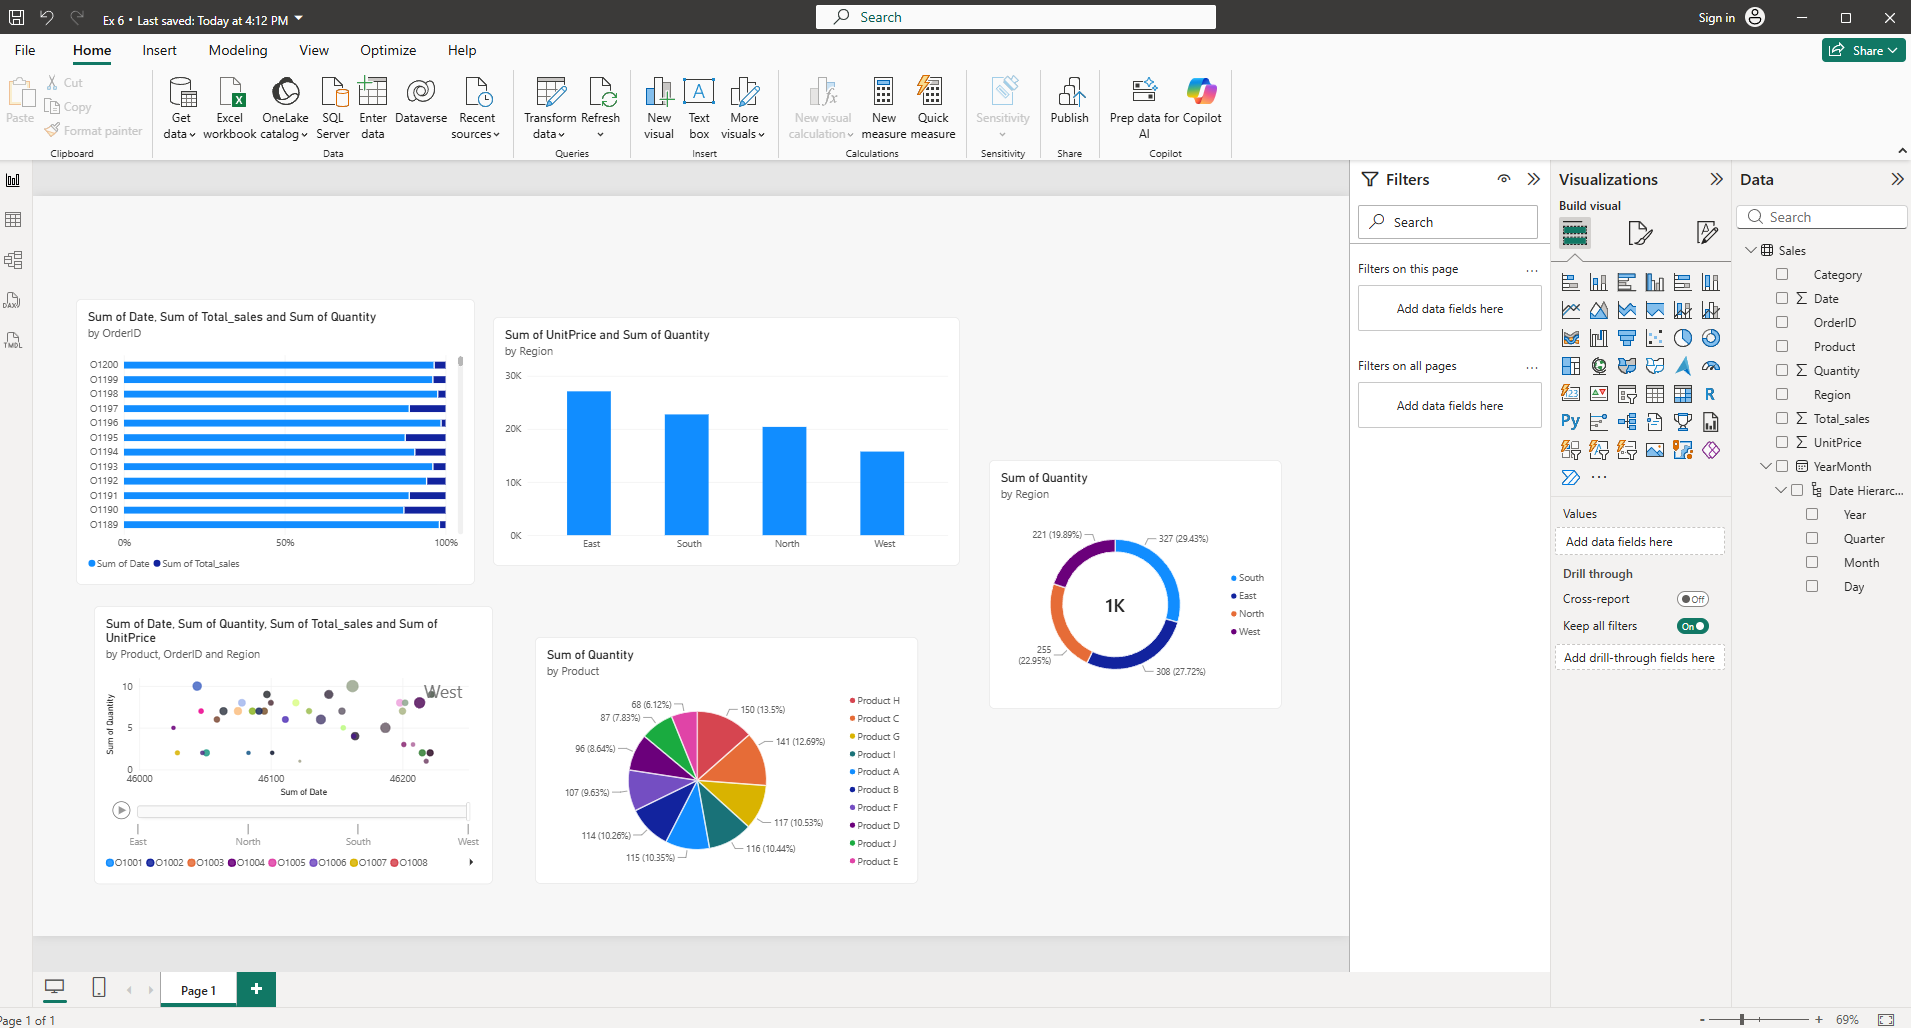

What the dashboard file says about the page in this screenshot:
{"tool":"powerbi","page":{"name":"Page 1","canvas":[1920,1080],"ordinal":0},"visuals":[{"type":"columnChart","fields":{"Category":["Sales.Region"],"Y":["Sum(Sales.UnitPrice)"]},"box":[671.1,176.5,681.3,363.3],"z":0},{"type":"pieChart","fields":{"Category":["Sales.Product"],"Y":["Sum(Sales.Quantity)"]},"box":[732.4,643.4,558.8,360.4],"z":1},{"type":"donutChart","fields":{"Category":["Sales.Region"],"Y":["Sum(Sales.Quantity)"]},"box":[1394.8,385.2,427.5,363.3],"z":2},{"type":"hundredPercentStackedBarChart","fields":{"Category":["Sales.OrderID"],"Y":["Sum(Sales.Date)","Sum(Sales.Total_sales)"]},"box":[62.7,150.3,582.1,417.3],"z":3},{"type":"scatterChart","fields":{"Category":["Sales.Product","Sales.Category","Sales.YearMonth.Variation.Date Hierarchy.Year","Sales.YearMonth.Variation.Date Hierarchy.Quarter","Sales.YearMonth.Variation.Date Hierarchy.Month","Sales.YearMonth.Variation.Date Hierarchy.Day"],"Play":["Sales.Region"],"Series":["Sales.OrderID"],"Size":["Sum(Sales.Total_sales)"],"X":["Sum(Sales.Date)"],"Y":["Sum(Sales.Quantity)"]},"box":[89,598.2,582.1,405.6],"z":4}]}

Visuals, with their boxes on the page's 1920x1080 design canvas (x1, y1, x2, y2). These are canvas units, not pixel positions in the 1911x1028 screenshot, which may show the page scaled, cropped or inside an application window:
columnChart - Sales.Region x Sum(Sales.UnitPrice): box(671, 176, 1352, 540)
pieChart - Sales.Product x Sum(Sales.Quantity): box(732, 643, 1291, 1004)
donutChart - Sales.Region x Sum(Sales.Quantity): box(1395, 385, 1822, 748)
hundredPercentStackedBarChart - Sales.OrderID x Sum(Sales.Date): box(63, 150, 645, 568)
scatterChart - Sales.Product x Sales.Category: box(89, 598, 671, 1004)
